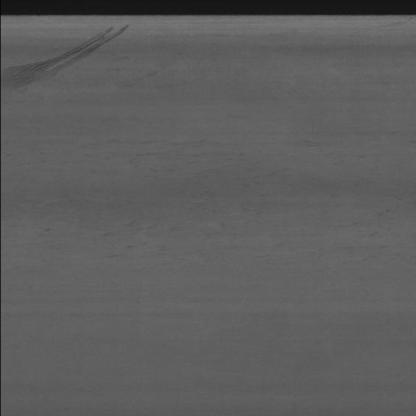silk_spot: (32, 140, 324, 254)
water_spot: (1, 17, 136, 92)
